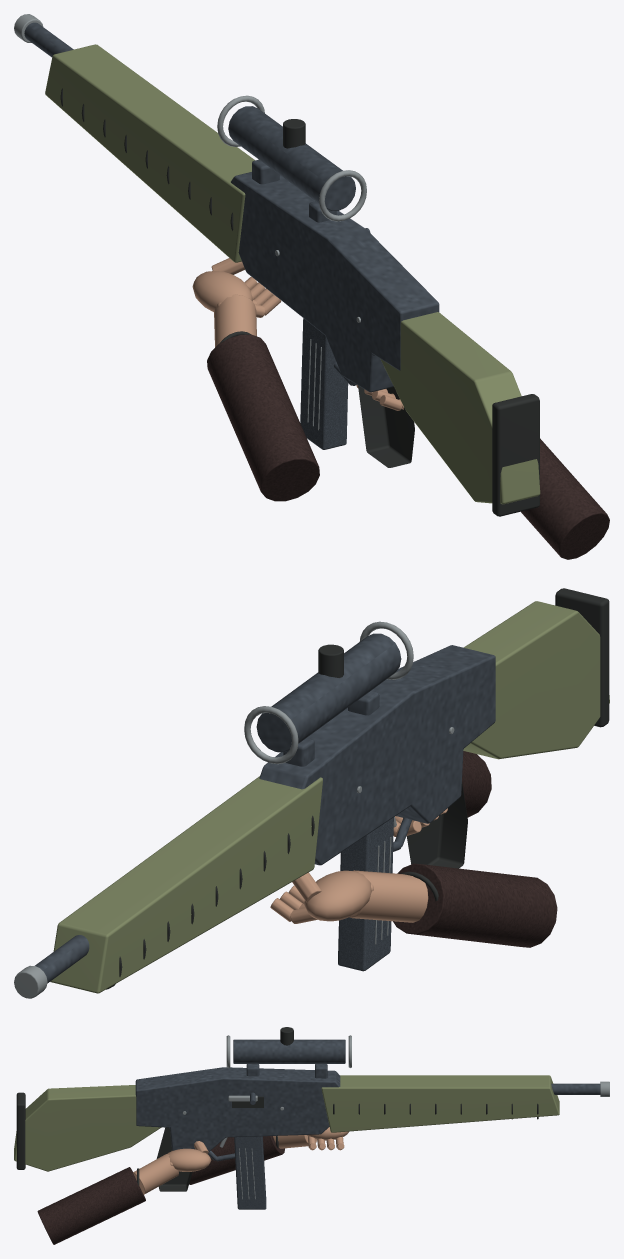
The picture shows the model from 3 angles, top to bottom: view 1: azimuth 30°, elevation 25°; view 2: azimuth 150°, elevation 25°; view 3: azimuth 270°, elevation 25°; orthographic projection. The views are drawn at different scales.
Parts seen in each view (by area): view 1: l96__BODY, l96__HAND_L, l96__HAND_R, l96__MAGAZINE; view 2: l96__BODY, l96__HAND_L, l96__MAGAZINE, l96__HAND_R; view 3: l96__BODY, l96__HAND_R, l96__HAND_L, l96__MAGAZINE.
Boxes of the visible parts, x1,y1,x2,y2 form: l96__BODY: (14,14,540,516); l96__HAND_L: (192,258,319,501); l96__HAND_R: (356,385,609,559); l96__MAGAZINE: (300,318,348,449); l96__BODY: (14,588,609,998); l96__HAND_L: (270,863,557,947); l96__MAGAZINE: (338,817,393,971); l96__HAND_R: (393,751,491,836); l96__BODY: (14,1027,609,1191); l96__HAND_R: (37,1141,211,1244); l96__HAND_L: (189,1127,348,1184); l96__MAGAZINE: (234,1136,266,1209).
Size of the model in its own units: 0.3294 by 0.4251 by 1.22.
6 materials, 2 textured.
